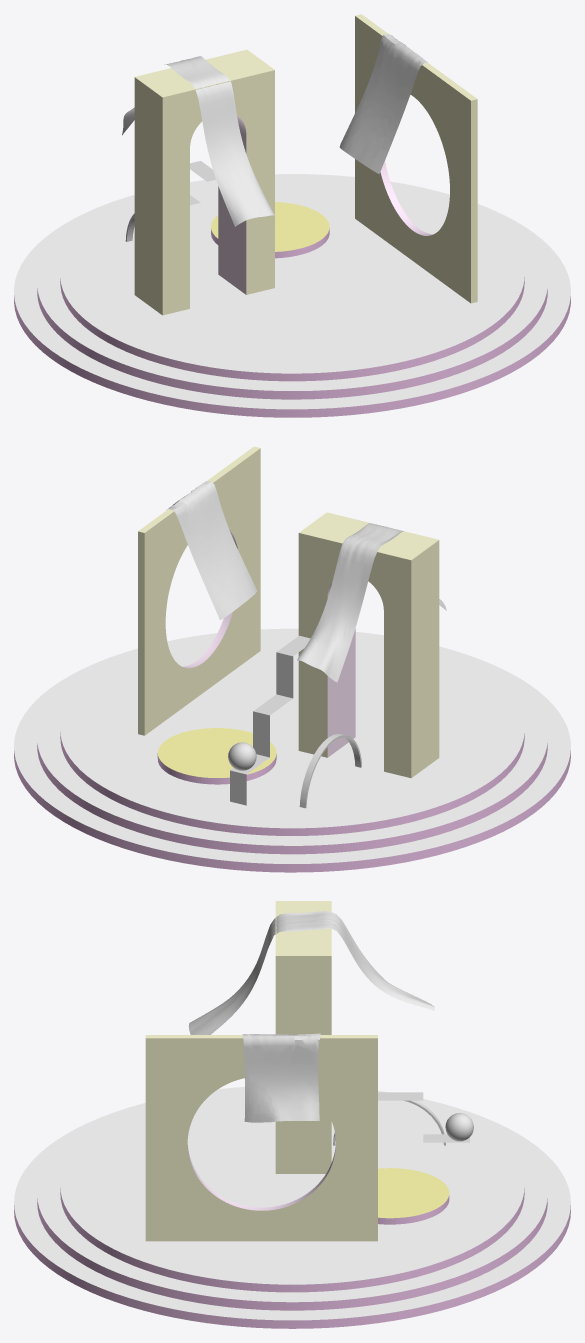
File: SLS_201215.glb
The picture shows the model from 3 angles, top to bottom: view 1: azimuth 30°, elevation 25°; view 2: azimuth 150°, elevation 25°; view 3: azimuth 270°, elevation 25°; orthographic projection.
Parts seen in each view (by area): view 1: Ebene_3, Outer_Ring_2, Ebene_1, Ebene_2, outer_ring, Stoff_1, Stoff_2, Scheibe_3, inner_RIng_2, inner_ring; view 2: Ebene_3, Outer_Ring_2, Ebene_1, Ebene_2, outer_ring, Stoff_1, Stoff_2, Scheibe_3, Stair, inner_RIng_2, Bogen, Ball; view 3: Ebene_3, outer_ring, Ebene_1, Ebene_2, Outer_Ring_2, Stoff_2, Stoff_1, Scheibe_3, Stair, Ball, inner_ring.
Boxes of the visible parts, box(x1,y1,x2,y2) form: Ebene_3: box(60, 177, 524, 381); Outer_Ring_2: box(134, 49, 274, 315); Ebene_1: box(14, 174, 570, 417); Ebene_2: box(37, 175, 547, 399); outer_ring: box(355, 14, 477, 303); Stoff_1: box(122, 56, 274, 226); Stoff_2: box(339, 34, 435, 173); Scheibe_3: box(211, 202, 329, 258); inner_RIng_2: box(218, 115, 246, 294); inner_ring: box(380, 161, 432, 235); Ebene_3: box(60, 632, 524, 835); Outer_Ring_2: box(298, 512, 439, 778); Ebene_1: box(14, 628, 570, 872); Ebene_2: box(37, 630, 547, 854); outer_ring: box(138, 446, 260, 735); Stoff_1: box(297, 523, 446, 682); Stoff_2: box(166, 481, 257, 619); Scheibe_3: box(157, 728, 276, 784); Stair: box(230, 635, 310, 805); inner_RIng_2: box(327, 583, 355, 757); Bogen: box(299, 734, 361, 808); Ball: box(228, 742, 256, 770); Ebene_3: box(60, 1090, 524, 1292); outer_ring: box(145, 1035, 377, 1241); Ebene_1: box(14, 1087, 570, 1328); Ebene_2: box(37, 1088, 547, 1310); Outer_Ring_2: box(275, 901, 331, 1173); Stoff_2: box(242, 1033, 320, 1122); Stoff_1: box(188, 911, 434, 1034); Scheibe_3: box(378, 1168, 449, 1224); Stair: box(378, 1092, 469, 1142); Ball: box(445, 1113, 473, 1141); inner_ring: box(187, 1143, 335, 1210).
Bounding box in the file's own units: 27.55 × 13.54 × 27.55.
Materials: 6 (4 with a texture image).
